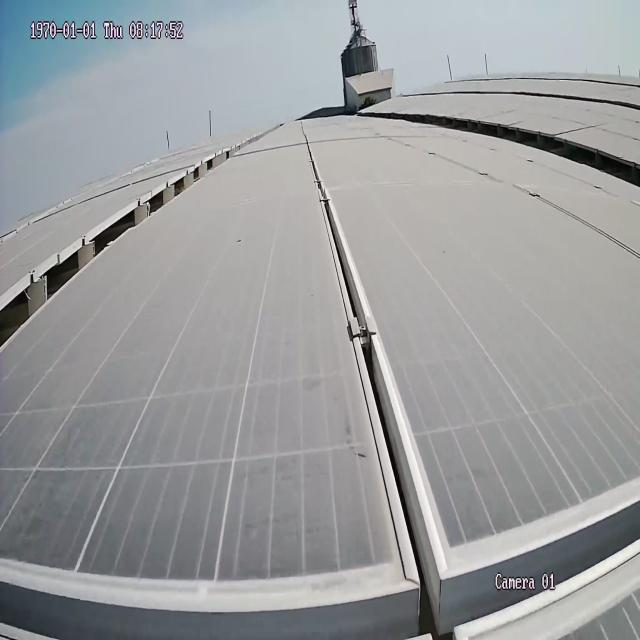interior panel: (2, 144, 639, 640)
outher panel: (1, 149, 231, 347), (376, 109, 639, 183)
